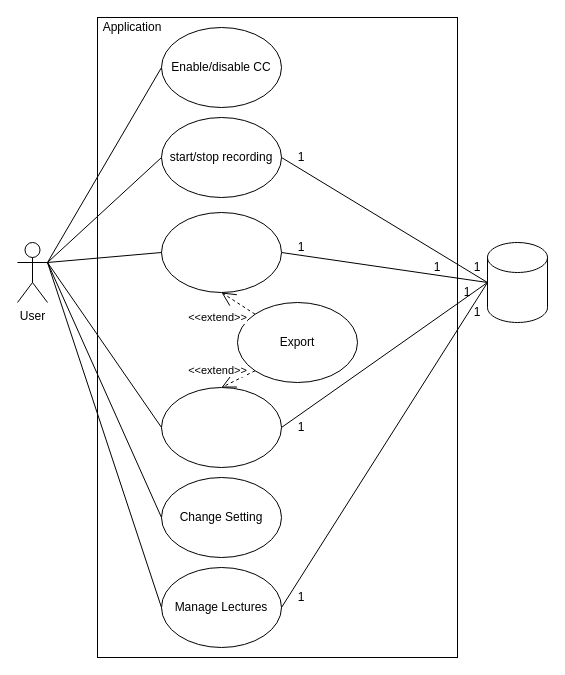
Some shapes in this 565 by 675 pixel diagram are drawn without their labels. The centre of each missing label's shape, as x and y in pixels:
View Keyword: point (221, 427)
View Transcript: point (221, 252)
Web Database: point (517, 282)
